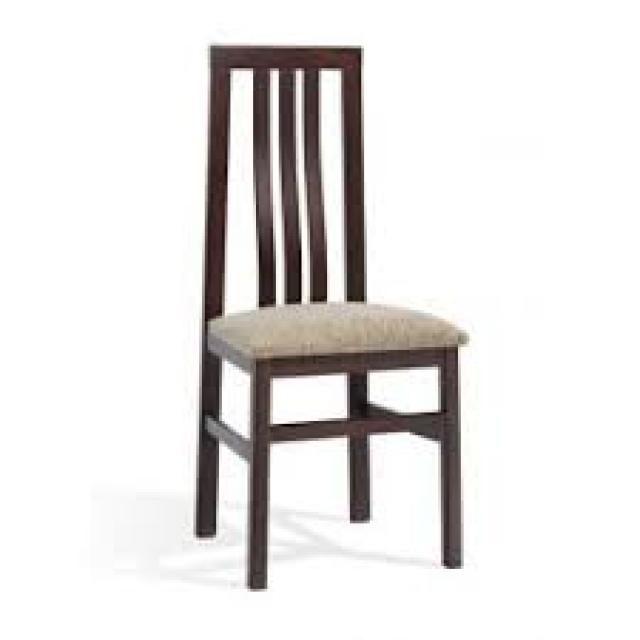bottle: (188, 34, 476, 600)
